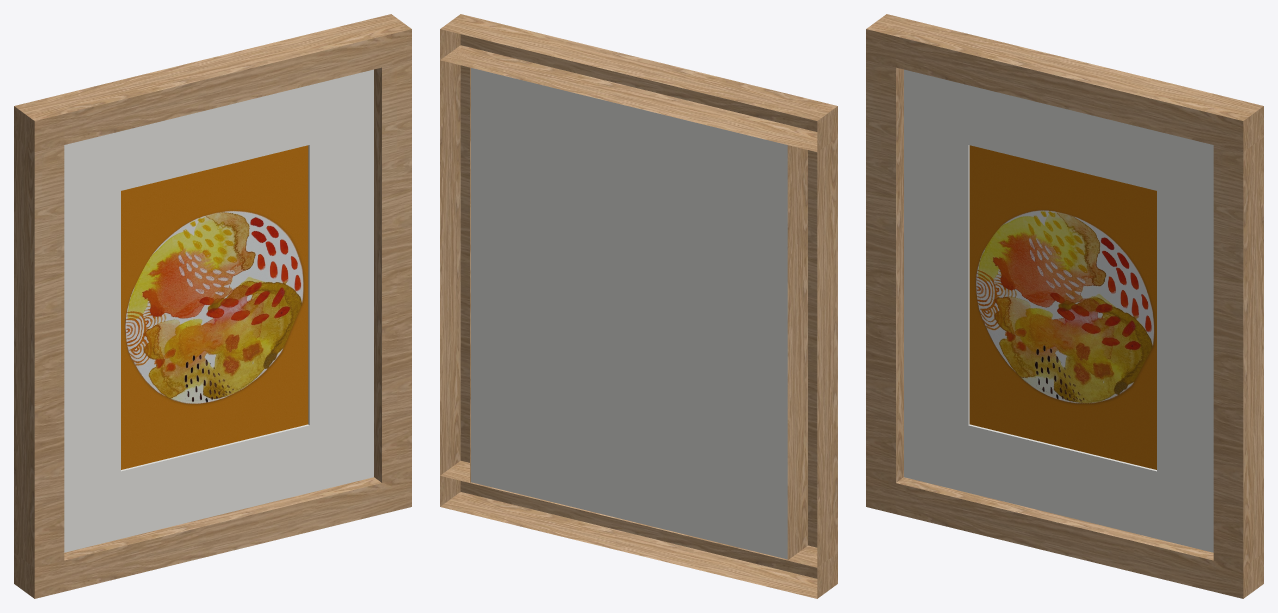
File: orange-hues.glb
The picture shows the model from 3 angles, left to right: view 1: azimuth 30°, elevation 25°; view 2: azimuth 150°, elevation 25°; view 3: azimuth 330°, elevation 25°; orthographic projection.
Visible parts, largest first — view 1: framed-art; view 2: framed-art; view 3: framed-art.
Part boxes in pixels (x1,y1,x2,y2): framed-art: (14,14,411,598); framed-art: (440,14,837,598); framed-art: (866,14,1263,598).
Bounding box in the file's own units: 0.2413 × 0.2921 × 0.0229.
3 materials, 3 textured.
